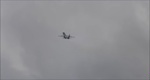maybay_muctieu: (58, 28, 74, 41)
